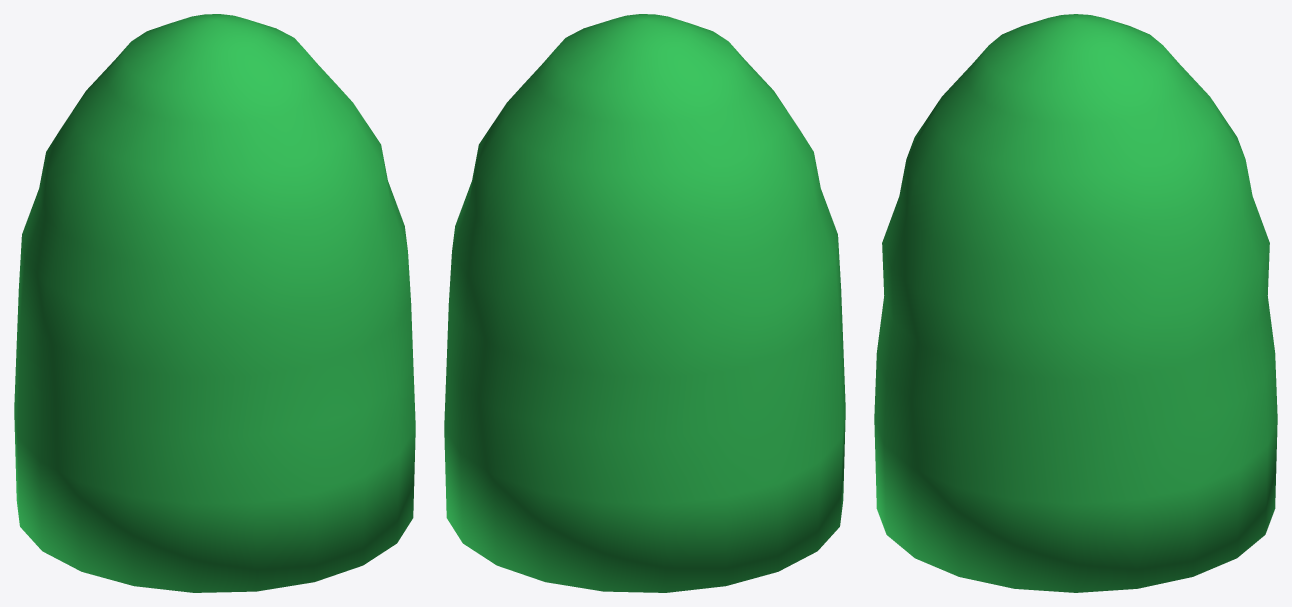
File: Boss_Alien.fbx
3 views of the same model, side by side, from view 1: azimuth 30°, elevation 25°; view 2: azimuth 150°, elevation 25°; view 3: azimuth 270°, elevation 25° (orthographic).
Visible parts, largest first — view 1: pSphere2; view 2: pSphere2; view 3: pSphere2.
Part boxes in pixels (x1,y1,x2,y2): pSphere2: (14, 14, 415, 592); pSphere2: (444, 14, 845, 592); pSphere2: (874, 14, 1277, 592).
Size of the model in its own units: 2.02 by 2.72 by 2.02.
